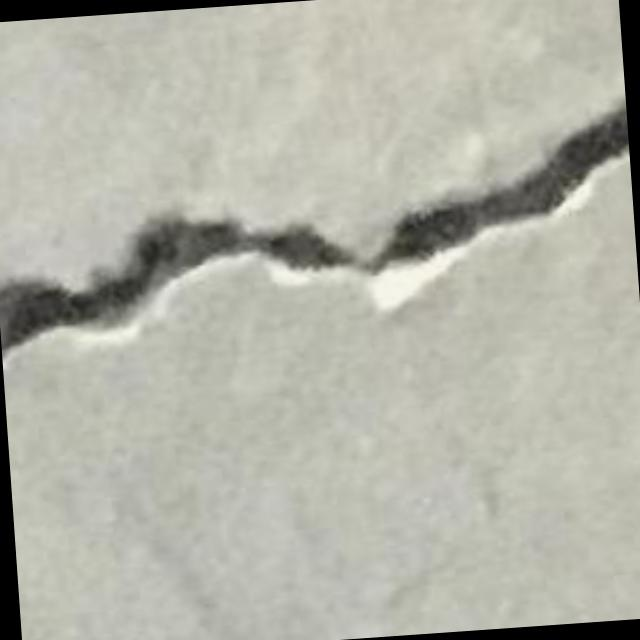crack: (0, 105, 629, 354)
